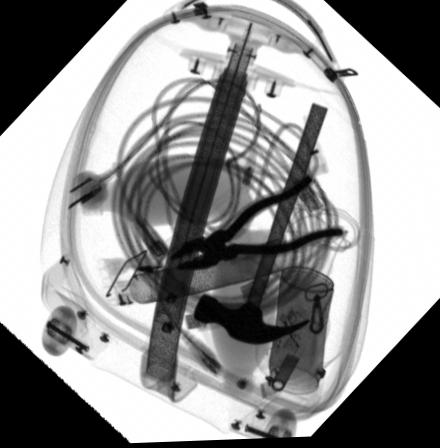Hammer: (191, 105, 329, 348)
Pliers: (168, 177, 345, 273)
